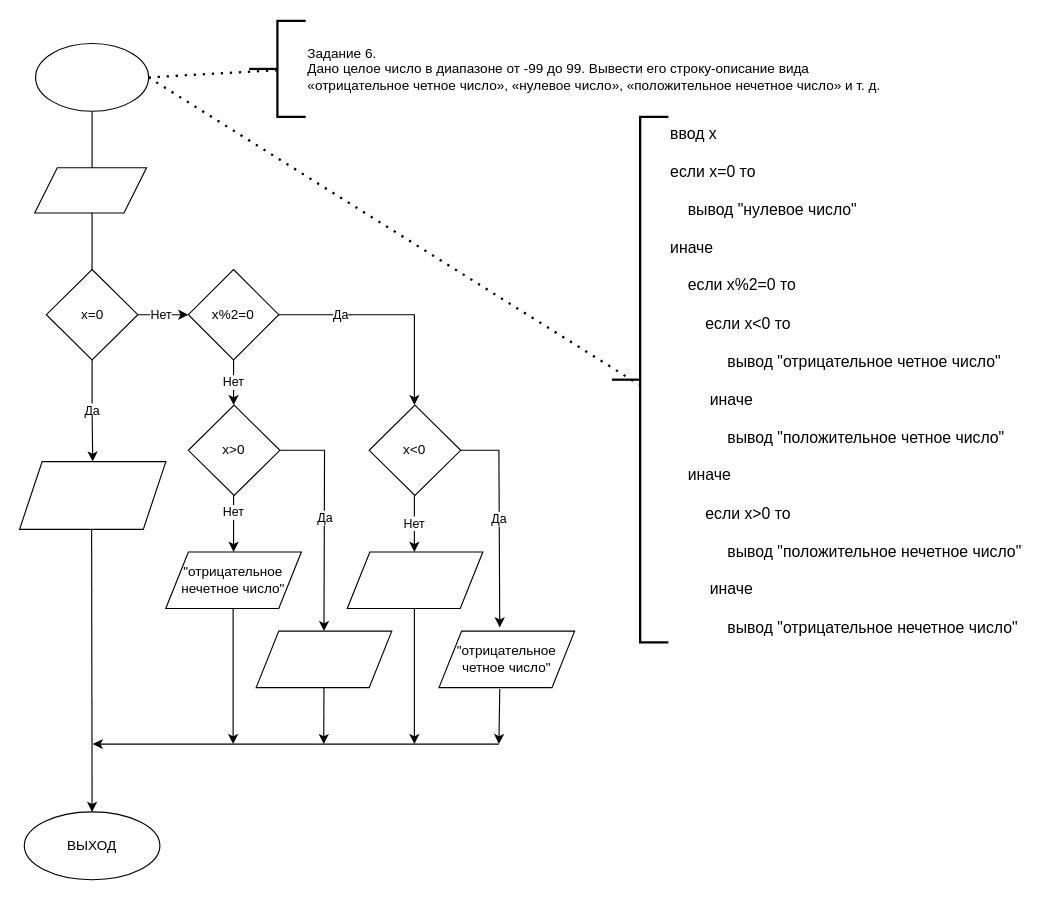
The diagram is 1042 pixels wide and 899 high, and some of its shapes have lost their labels. Each missing label, with the centre of its shape:
"нулевое число": point (92, 494)
"положительное нечетное число": point (323, 659)
"положительное четное число": point (414, 580)
x={-99;99}: point (90, 190)
НАЧАЛО: point (91, 76)
